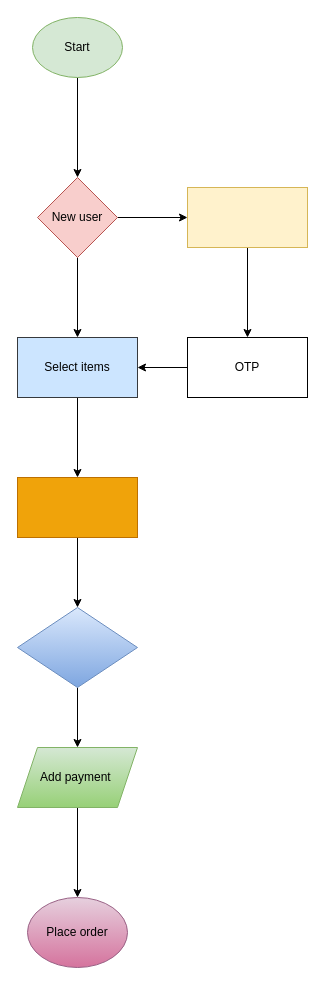
Image size: 325x985. Some labels were removed from this diagram. The centre of each missing label's shape, as x and y in pixels:
Add to cart: the point at 77,507
Enter Ph number: the point at 247,217
Select address: the point at 77,647
